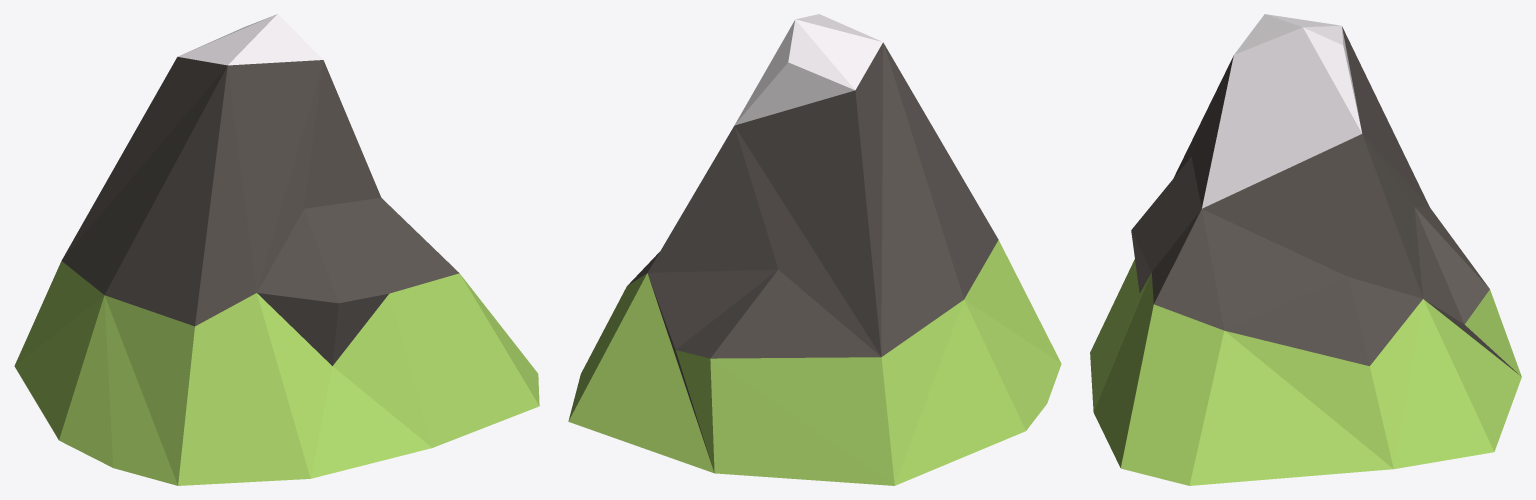
Rendered from M_Mountain 2.fbx.
3 views of the same model, side by side, from view 1: azimuth 30°, elevation 25°; view 2: azimuth 150°, elevation 25°; view 3: azimuth 270°, elevation 25° (orthographic).
Parts seen in each view (by area): view 1: 立方体.001; view 2: 立方体.001; view 3: 立方体.001.
Part boxes in pixels (x1=…): 立方体.001: x1=14, y1=14, x2=539, y2=485; 立方体.001: x1=568, y1=14, x2=1061, y2=485; 立方体.001: x1=1090, y1=14, x2=1521, y2=485.
Bounding box in the file's own units: 790 × 656 × 700.
